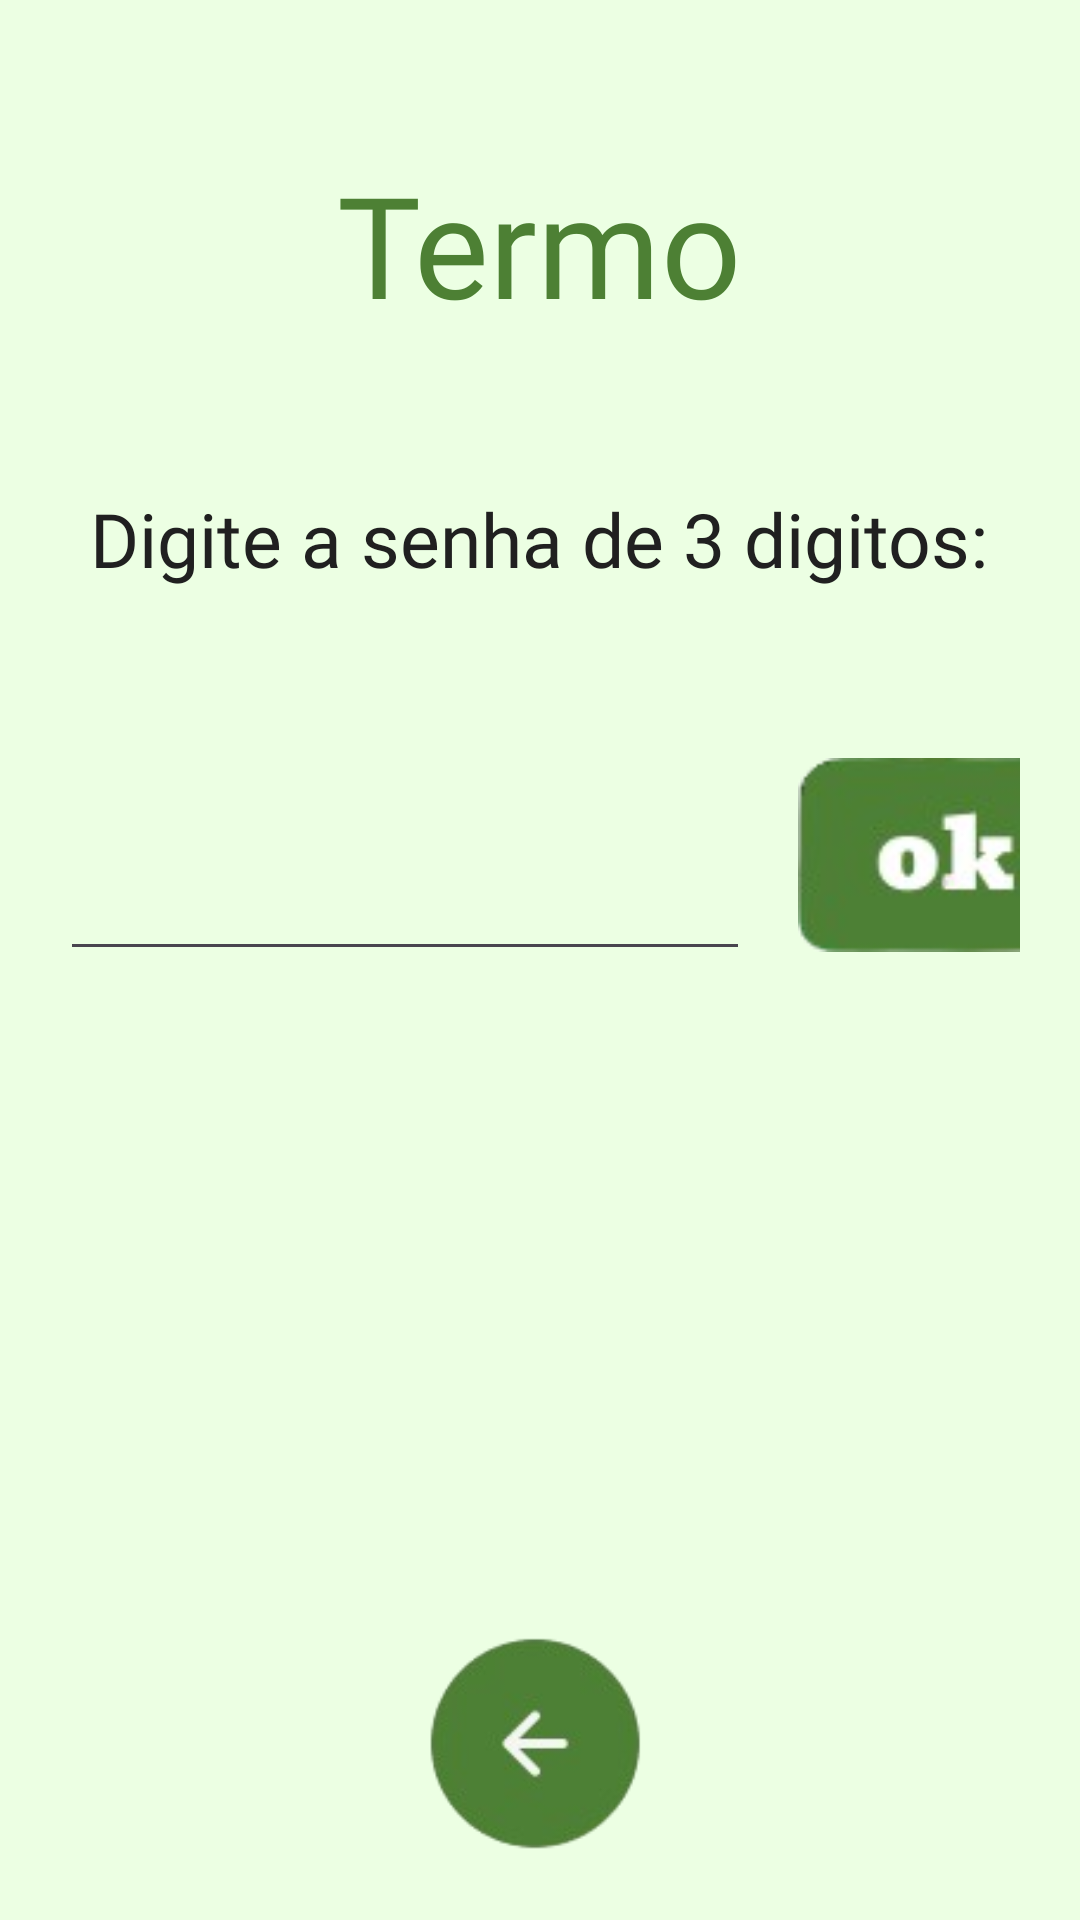

Locate icon controls on the screen. Image size 1080w x 1920h, boxes as detection(x1, y1, x2, y2).
voltar: detection(430, 1639, 640, 1849)
